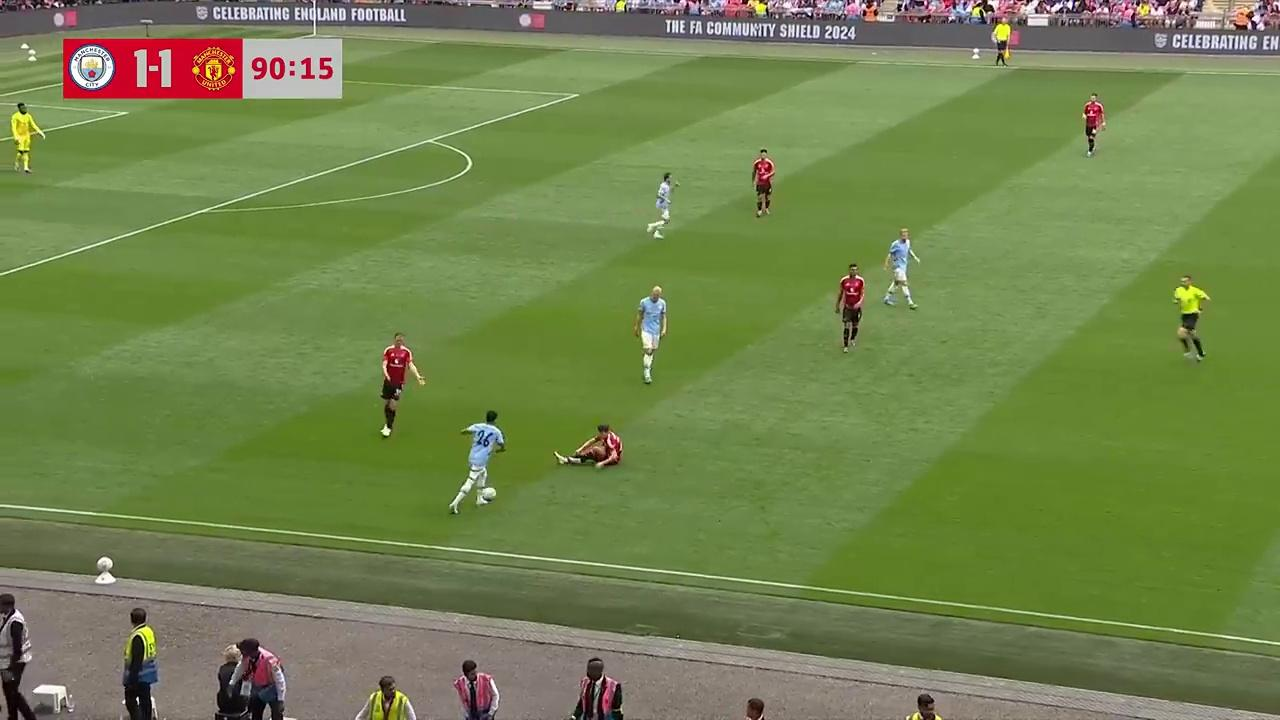ball: (480, 486, 499, 502)
player: (448, 409, 505, 513), (379, 331, 425, 439), (633, 285, 666, 384), (883, 227, 920, 310), (561, 422, 623, 469), (836, 263, 865, 352), (10, 102, 44, 175), (648, 172, 679, 238), (751, 147, 775, 218), (1081, 92, 1105, 157)
referee: (1173, 274, 1210, 364), (992, 19, 1013, 67)
